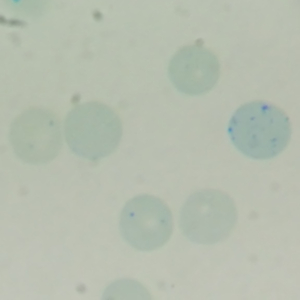erythrocyte: (63, 101, 123, 162), (176, 187, 238, 245), (166, 43, 223, 99)
punctate reticulocyte: (227, 100, 294, 161), (117, 193, 176, 253), (6, 105, 64, 166)
